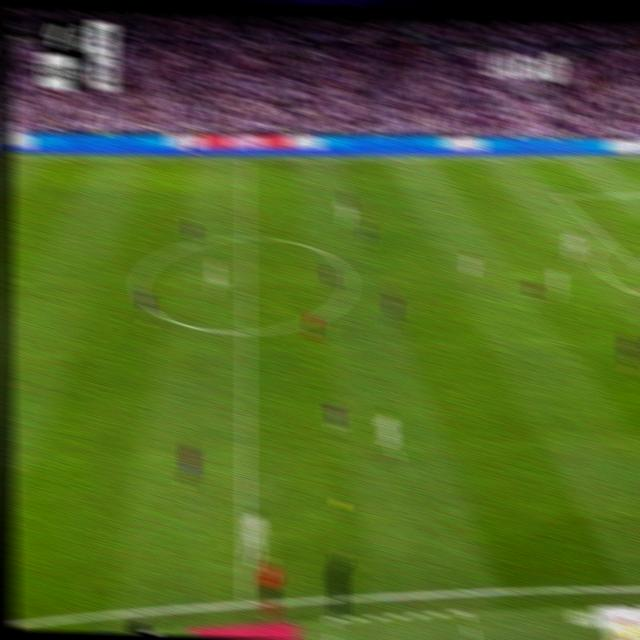bigarea_top_inner: (553, 188, 566, 202)
corner: (634, 151, 640, 161)
halfcircle_bottom: (236, 317, 255, 344)
halfcircle_top: (236, 224, 254, 248)
midline_bottom_intersection: (235, 586, 256, 614)
midline_top_intersection: (238, 152, 252, 168)
top_arc_area_intersection: (600, 230, 613, 246)
